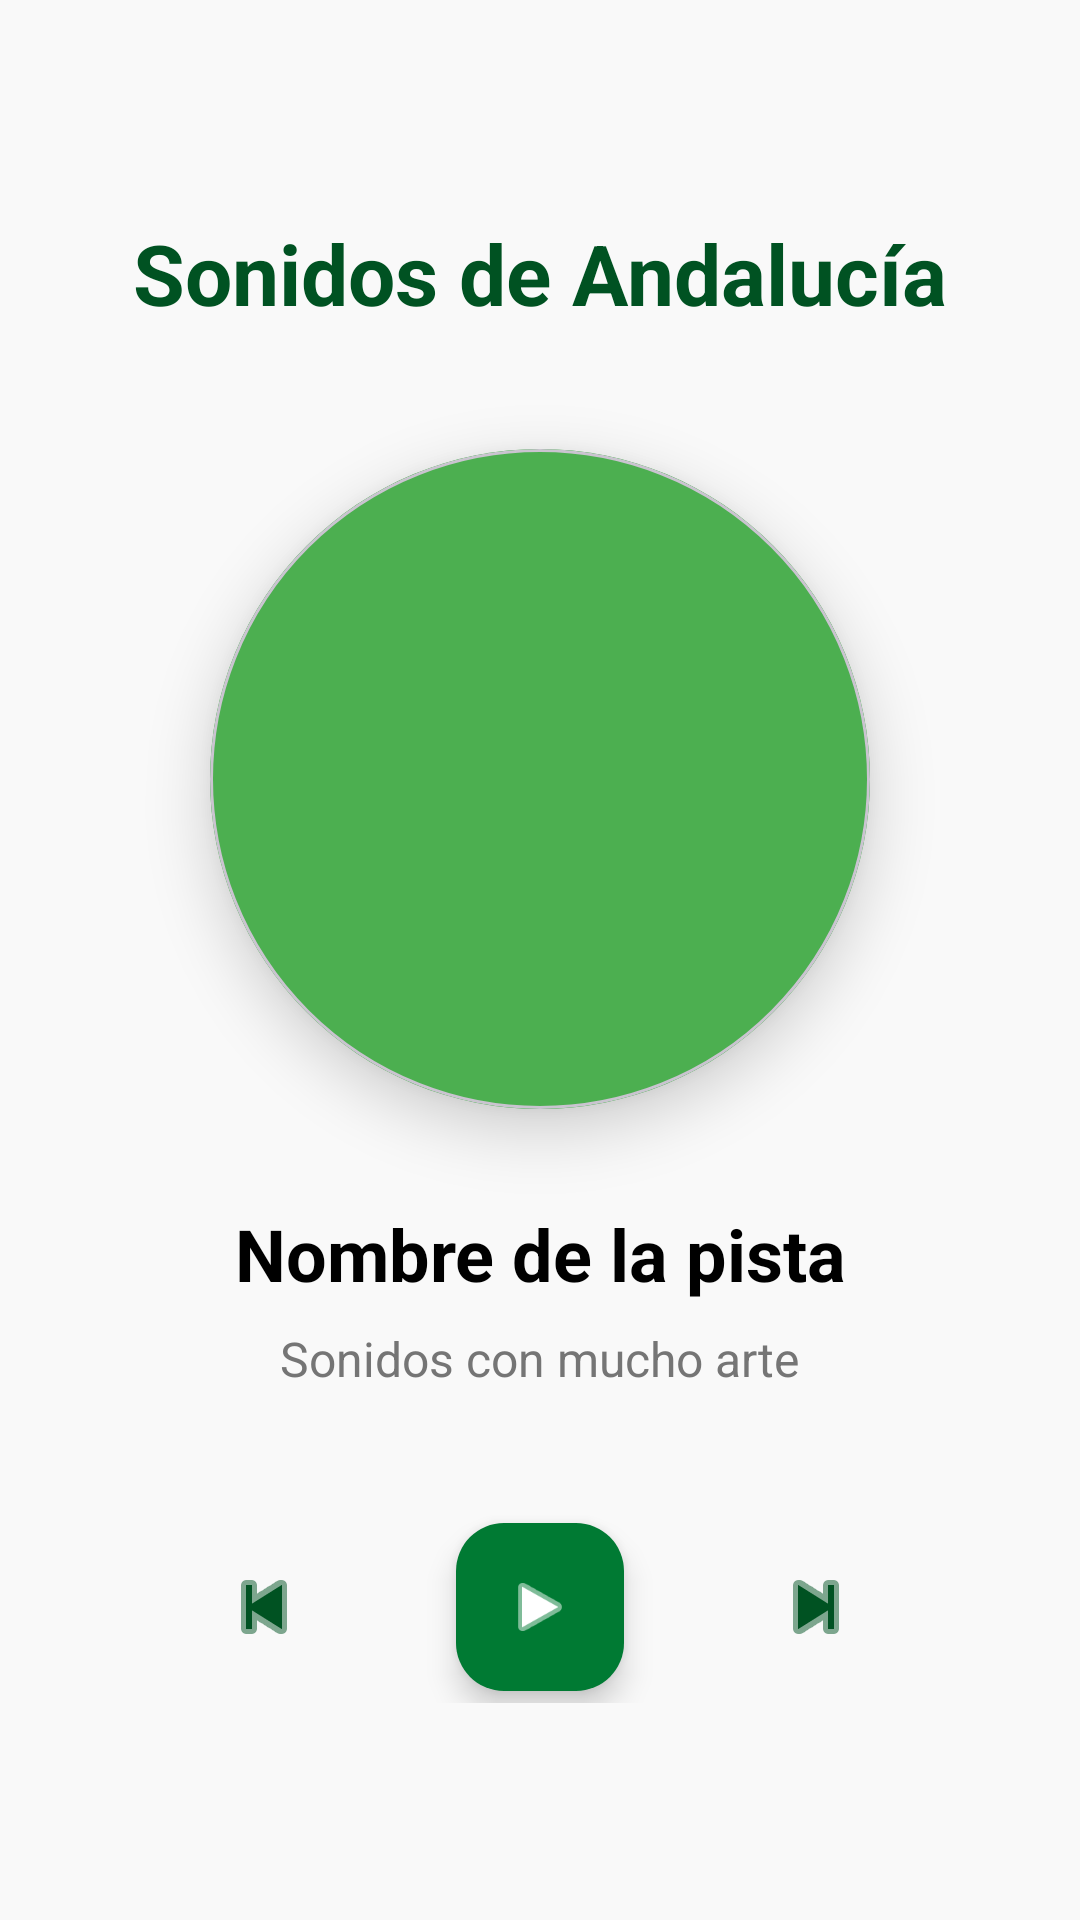

Where icons sit on this 1080x1920 app screen, as {"left": x1, "top": y1, "right": x2, "bottom": y2}:
next: {"left": 793, "top": 1580, "right": 839, "bottom": 1634}
play: {"left": 456, "top": 1523, "right": 624, "bottom": 1691}
previous: {"left": 241, "top": 1580, "right": 287, "bottom": 1634}
